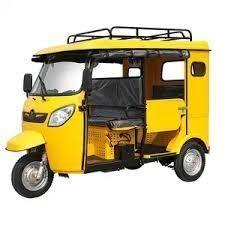keke: (6, 15, 222, 202), (4, 23, 212, 200)
